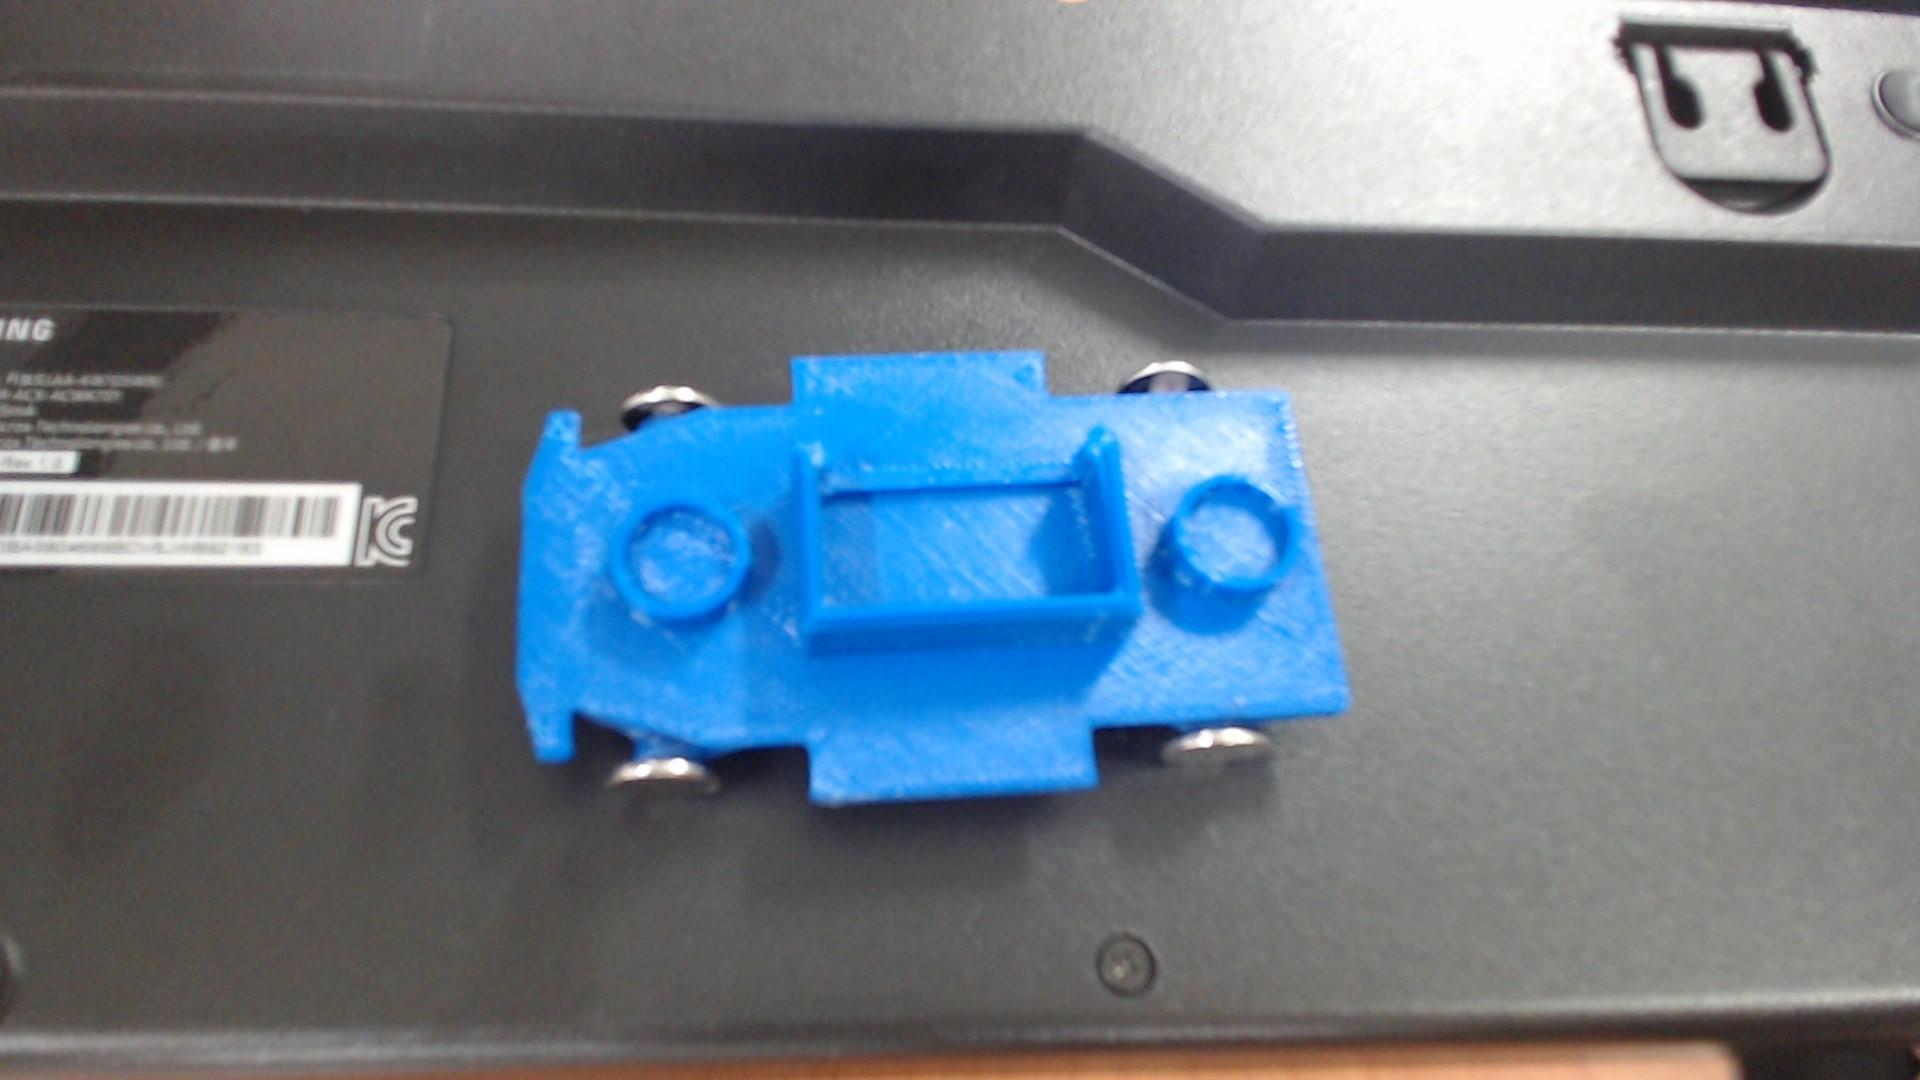lower_ng: (782, 418, 1155, 673)
